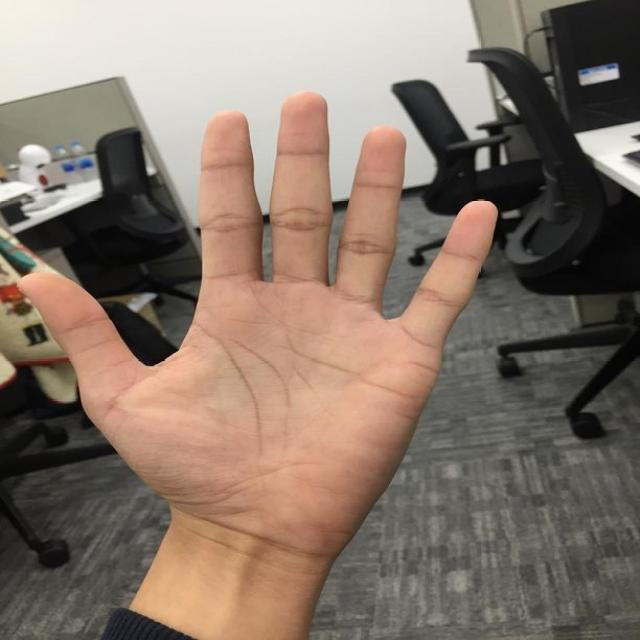no-gloves: (20, 92, 497, 551)
